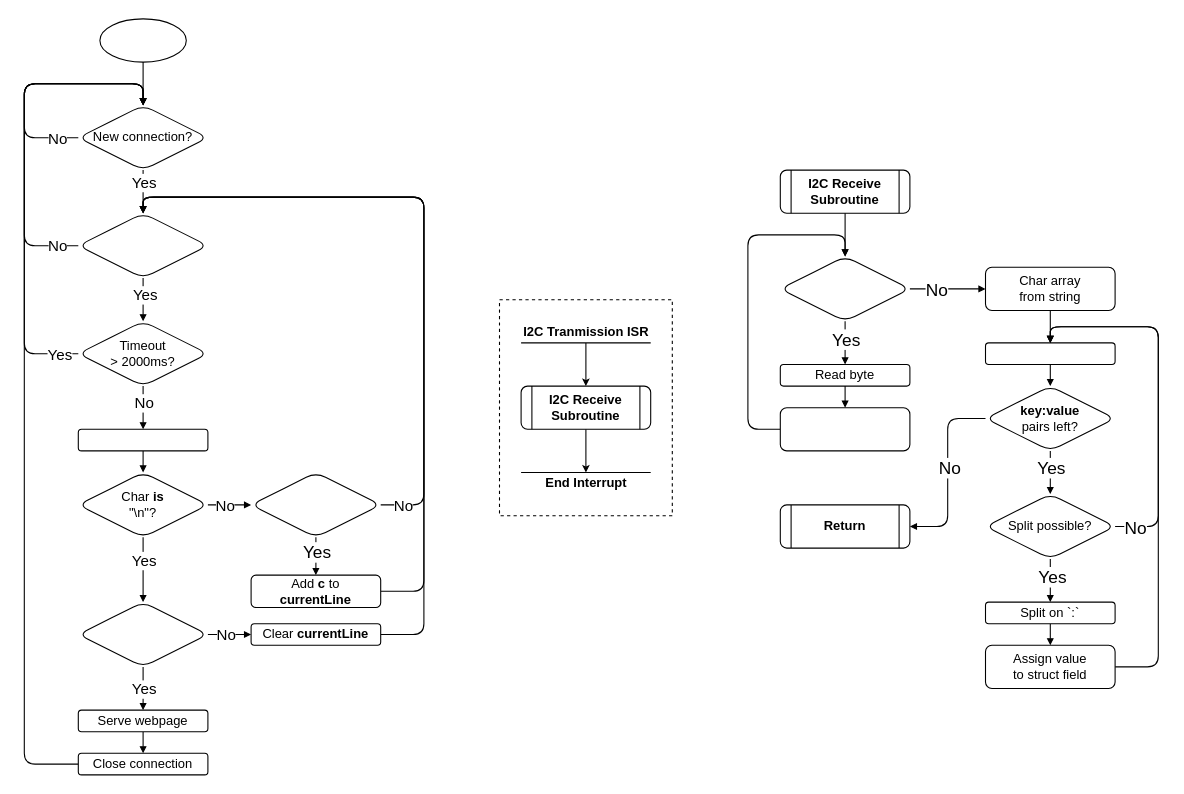
Some shapes in this 1184 by 794 pixel diagram are drawn without their labels. Each missing label, with the box of its shape:
Add to decode string: (779, 407, 910, 451)
Bytes left?: (779, 255, 910, 321)
Char not "\r"?: (250, 471, 381, 537)
Client connected?: (77, 212, 208, 278)
currentLine is empty?: (77, 601, 208, 667)
Read char c: (77, 428, 208, 451)
Split on `&`: (984, 342, 1115, 364)
START: (99, 18, 186, 62)
